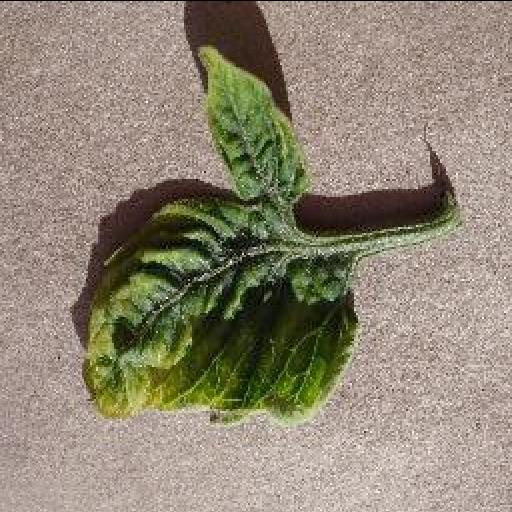disease_tomato: (86, 46, 358, 428)
